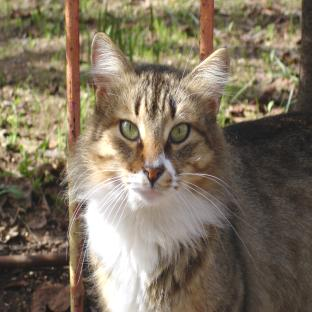Animal: (68, 32, 312, 312)
